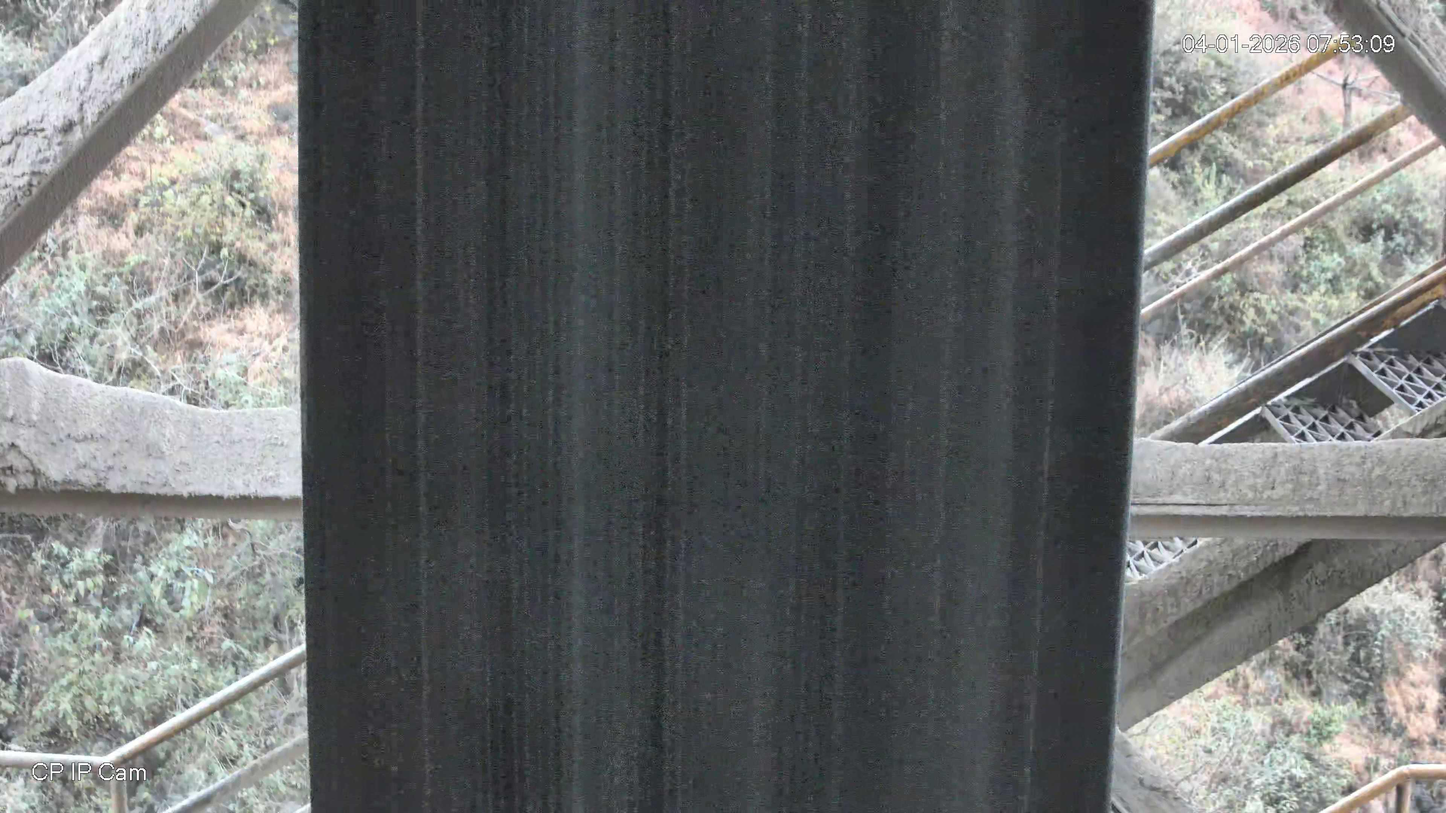belt_roi: (300, 0, 1159, 813)
